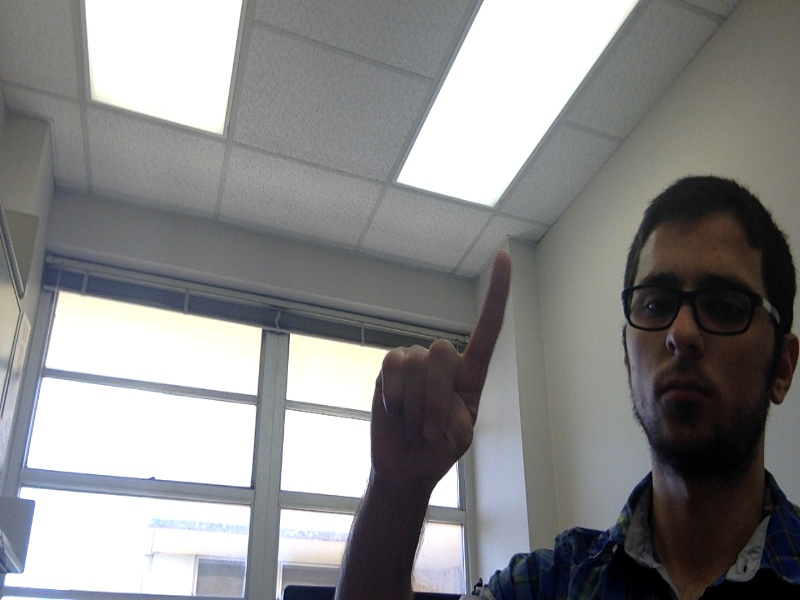1-hand: (368, 250, 513, 490)
